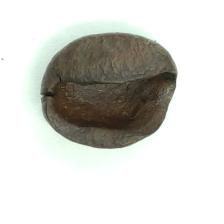NG: (40, 69, 175, 137)
